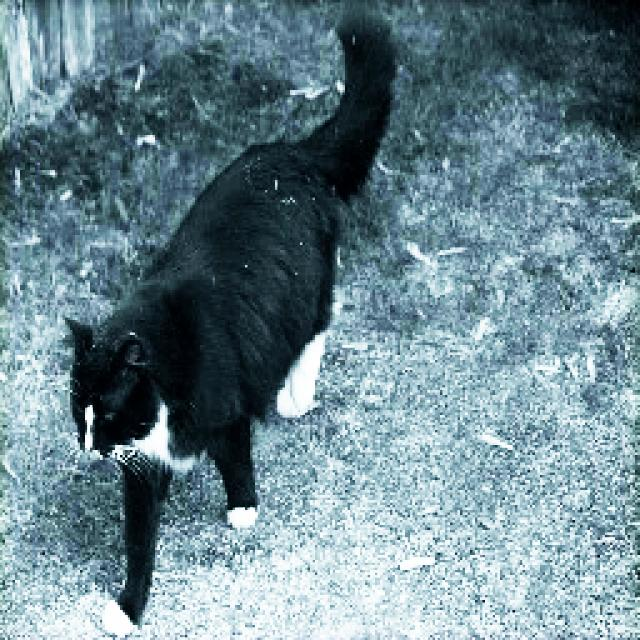cat: (57, 12, 394, 640)
